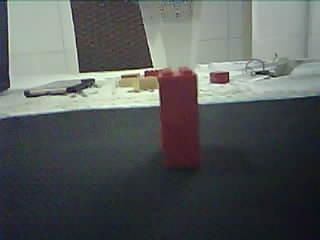lego: (156, 65, 200, 170), (208, 71, 230, 84), (138, 77, 159, 89), (117, 77, 139, 87), (143, 70, 161, 76), (119, 73, 139, 78)
